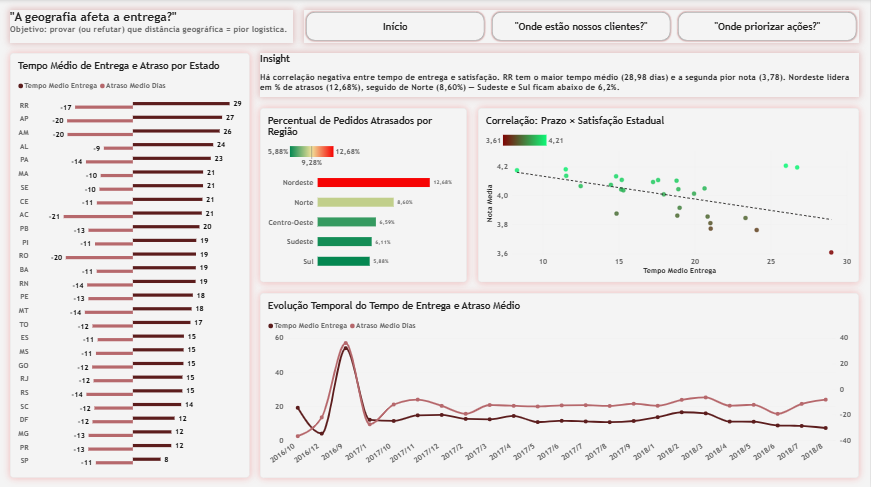

The dashboard page shown, as its layout file describes it:
{"tool":"powerbi","page":{"name":"\"A geografia afeta a entrega?\"","canvas":[1920,1080],"ordinal":2},"visuals":[{"type":"textbox","box":[24,24,624,72],"z":0},{"type":"pageNavigator","box":[672,24,1224,72],"z":1000},{"type":"clusteredBarChart","title":"Tempo Médio de Entrega e Atraso por Estado","fields":{"Category":["fPedidos.customer_state"],"Y":["Medidas.Tempo Medio Entrega","Medidas.Atraso Medio Dias"]},"box":[24,120,528,936],"z":1001},{"type":"barChart","title":"Percentual de Pedidos Atrasados por Região","fields":{"Category":["dEstado.Regiao"],"Y":["Medidas.% Pedidos Atrasados"]},"box":[576,240,456,384],"z":1002},{"type":"lineChart","title":"Evolução Temporal do Tempo de Entrega e Atraso Médio","fields":{"Category":["fPedidos.AnoMes"],"Y":["Medidas.Tempo Medio Entrega"],"Y2":["Medidas.Atraso Medio Dias"]},"box":[576,648,1320,408],"z":1003},{"type":"scatterChart","title":"Correlação: Prazo × Satisfação Estadual","fields":{"Category":["fPedidos.customer_state"],"X":["Medidas.Tempo Medio Entrega"],"Y":["Medidas.Nota Media"]},"box":[1056,240,840,384],"z":1004},{"type":"textbox","title":"Insight","box":[576,120,1320,96],"z":1005}]}

Visuals, with their boxes in screenshot pixels (x1, y1, x2, y2), scaled from the page's 1920x1080 canvas onto the 871x487 screenshot:
textbox: x1=11, y1=11, x2=294, y2=43
pageNavigator: x1=305, y1=11, x2=860, y2=43
"Tempo Médio de Entrega e Atraso por Estado" clusteredBarChart: x1=11, y1=54, x2=250, y2=476
"Percentual de Pedidos Atrasados por Região" barChart: x1=261, y1=108, x2=468, y2=281
"Evolução Temporal do Tempo de Entrega e Atraso Médio" lineChart: x1=261, y1=292, x2=860, y2=476
"Correlação: Prazo × Satisfação Estadual" scatterChart: x1=479, y1=108, x2=860, y2=281
"Insight" textbox: x1=261, y1=54, x2=860, y2=97
